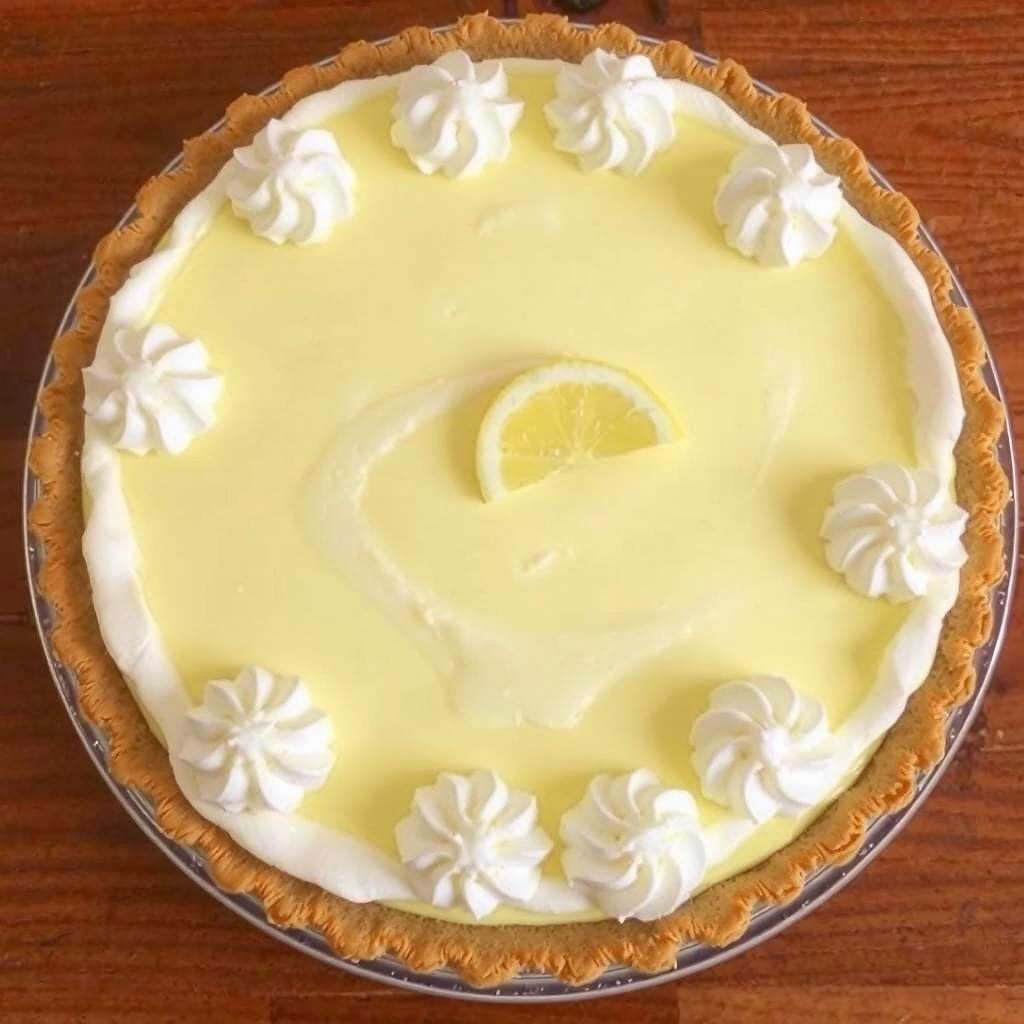pie: (23, 11, 1016, 999)
